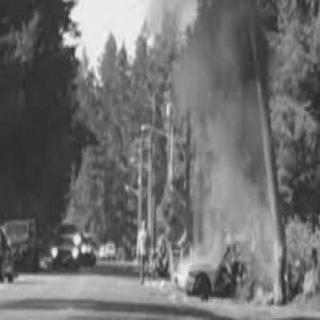Fire: (194, 163, 288, 297)
